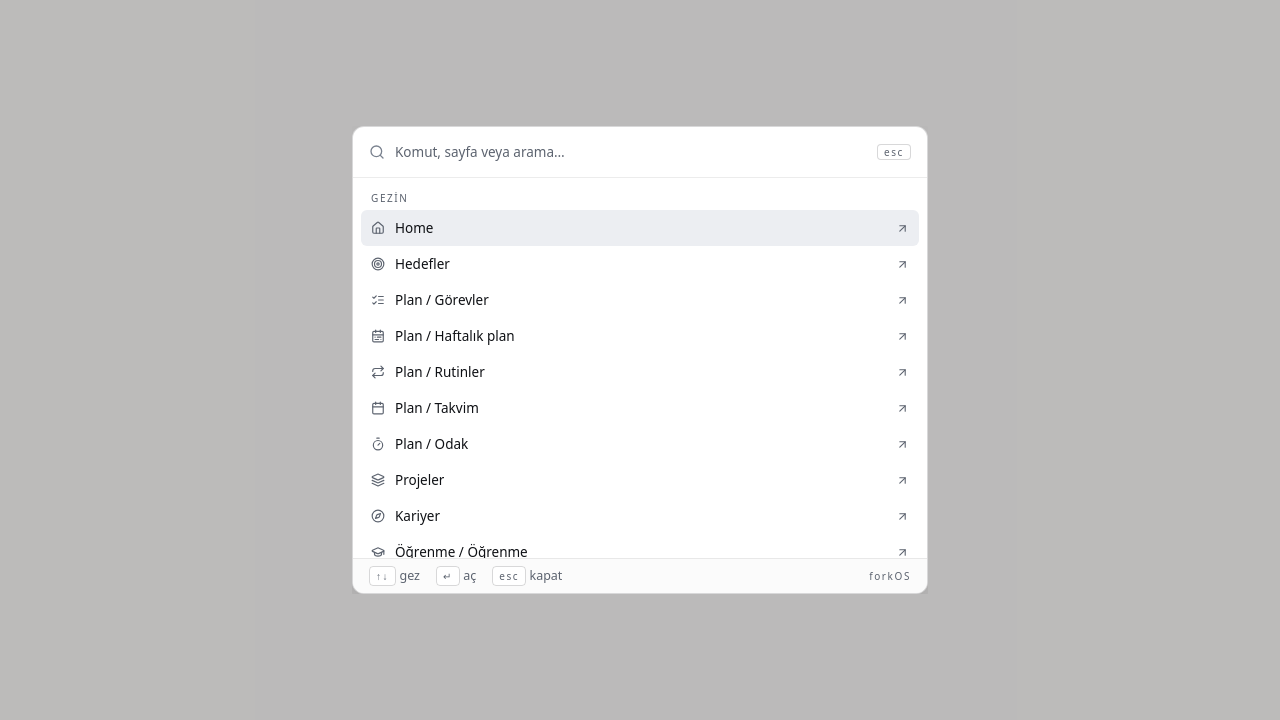
CommandPalette v2 › global varlık arama sonuçlarını gruplar halinde gösterir
Type "forkOS" into the dropdown with placeholder "Komut, sayfa veya arama…" at [631, 152], box [395,127,867,177]
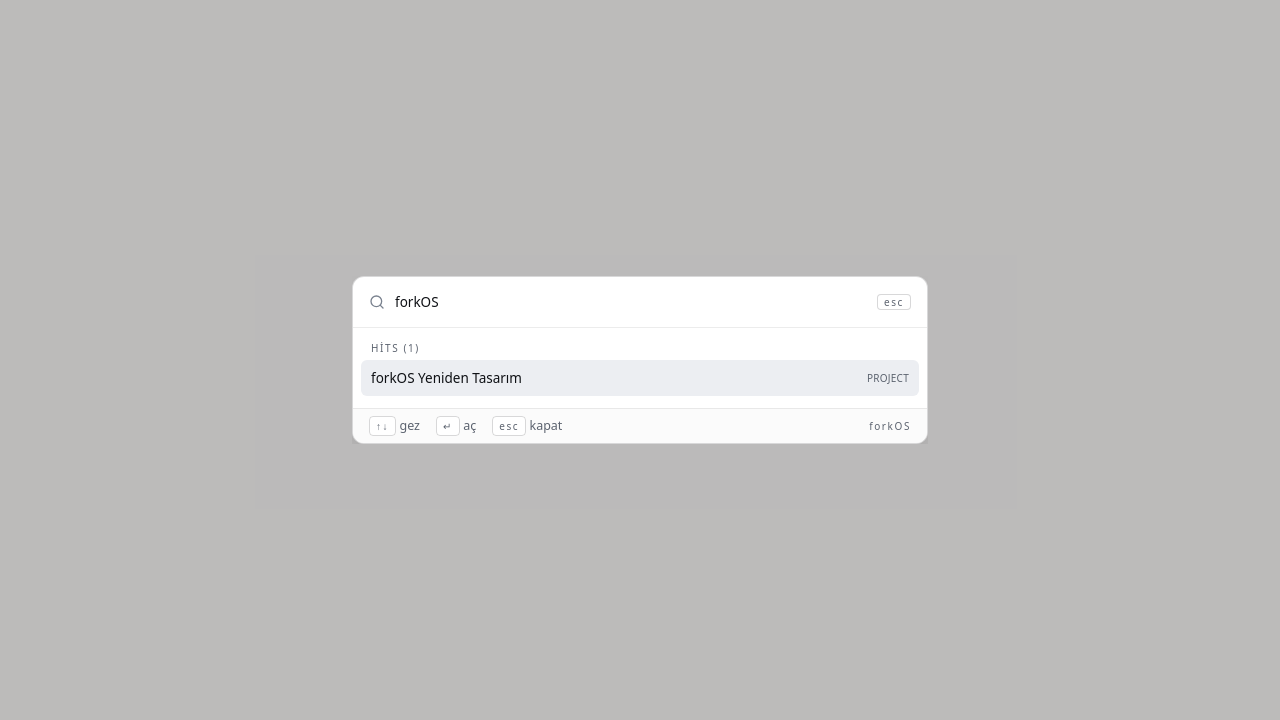
Check: the text "forkOS Yeniden Tasarım" is shown, box [371,368,522,388]
